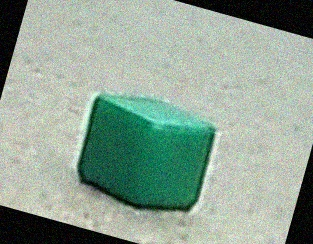green_cube: (67, 83, 221, 217)
